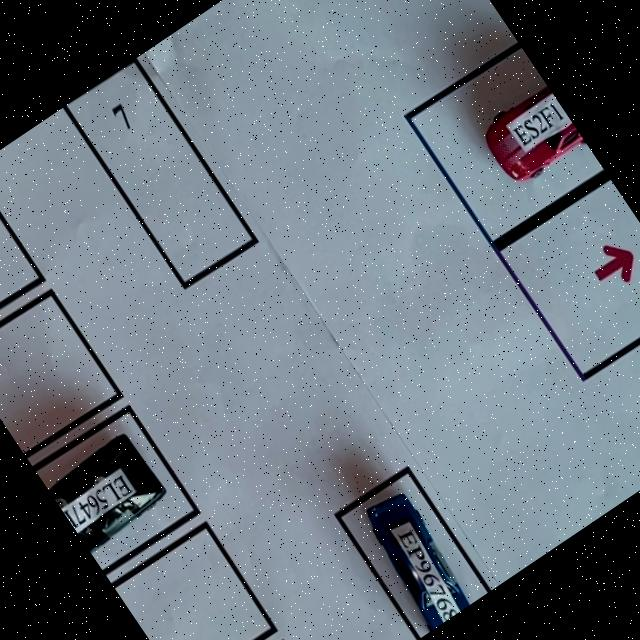car: (366, 493, 470, 632), (49, 434, 164, 551), (486, 85, 586, 181)
